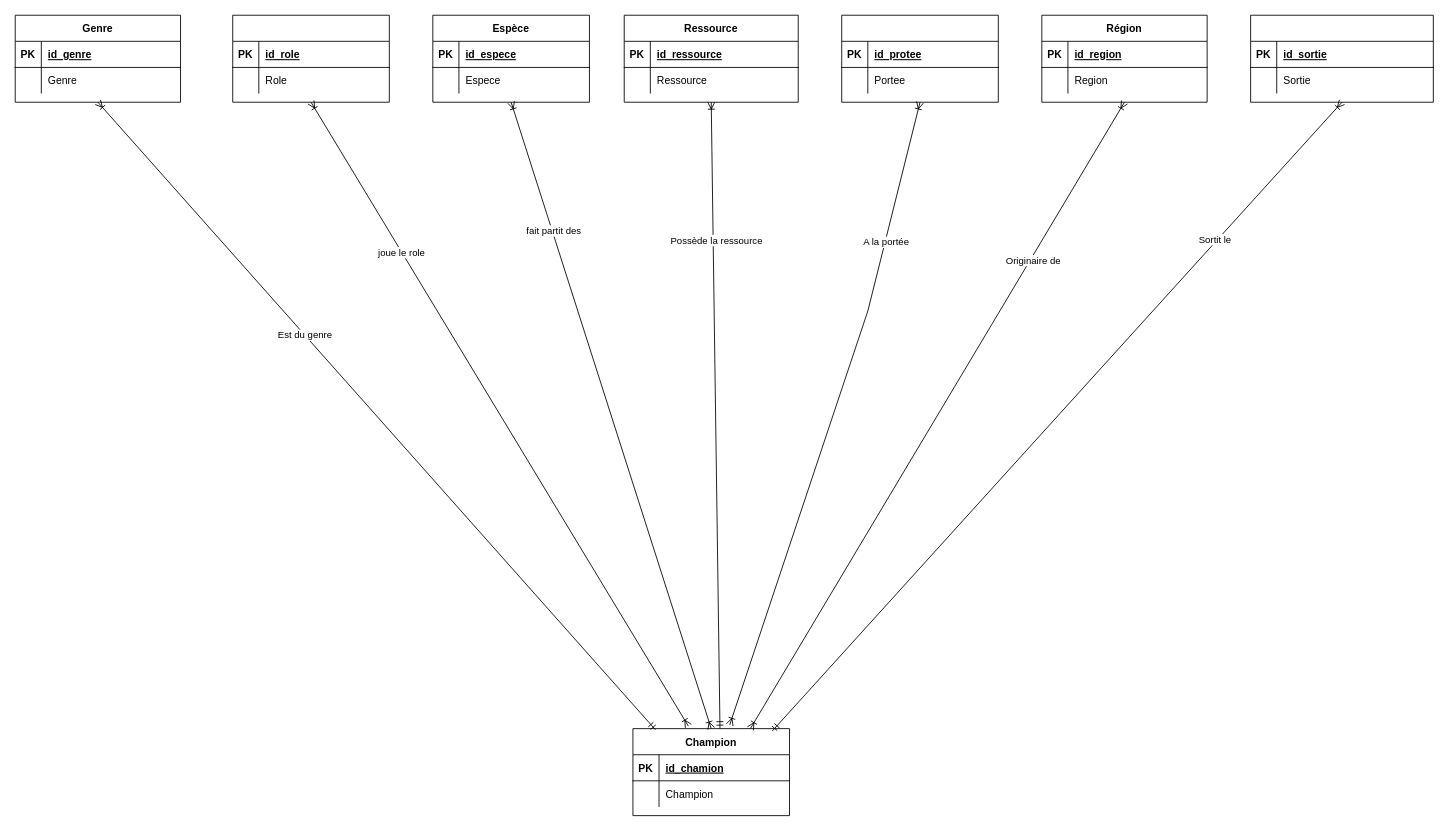
This 1449x831 diagram has some shape labels left out. The box of each missing label's shape, as (x1, y1, x2, y2) in pixels:
Année de sortie: (1250, 14, 1433, 102)
Rôle: (232, 14, 389, 102)
Type de portée: (841, 14, 998, 102)
